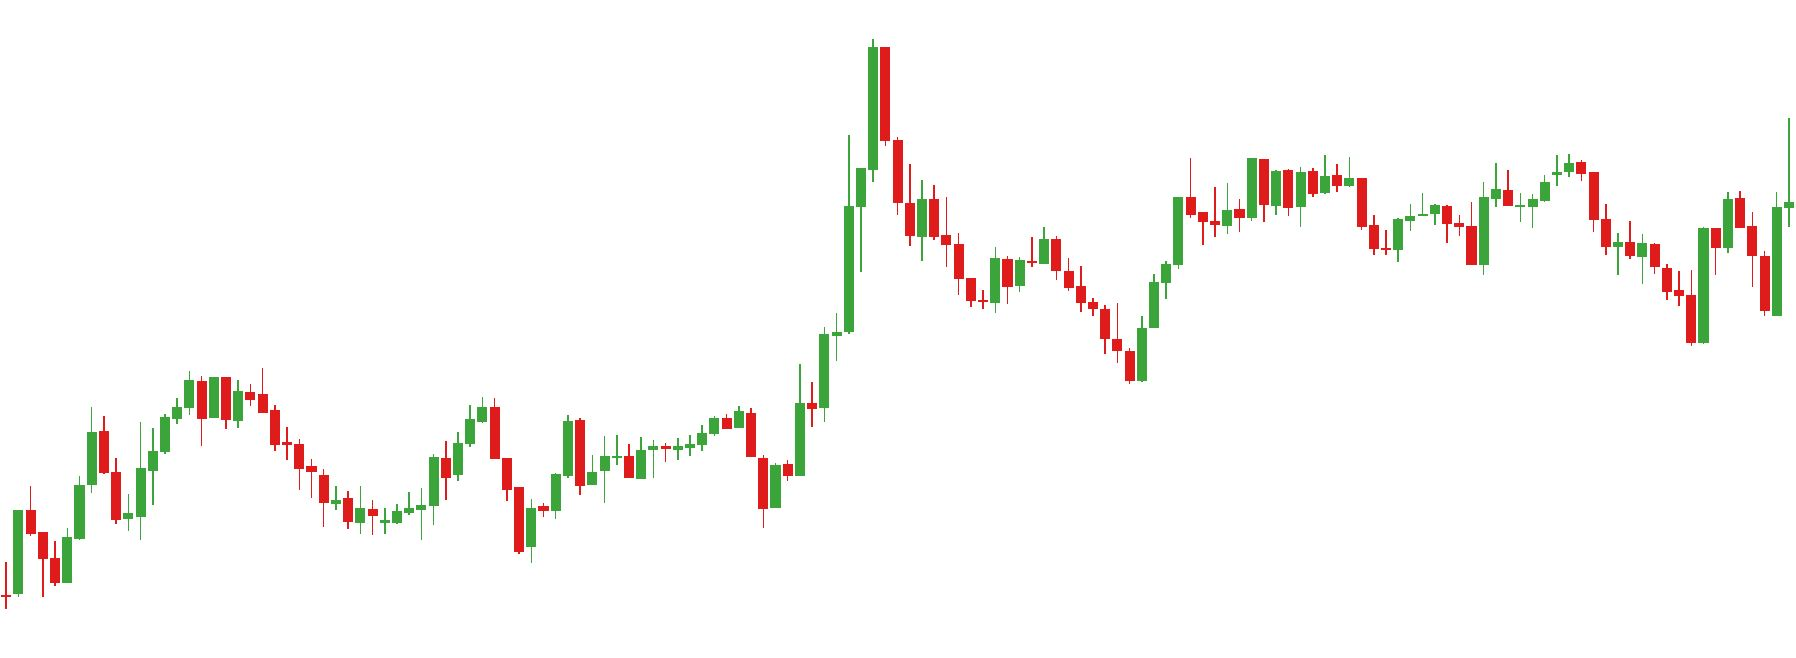buy: (412, 445, 539, 567), (621, 432, 785, 526)
